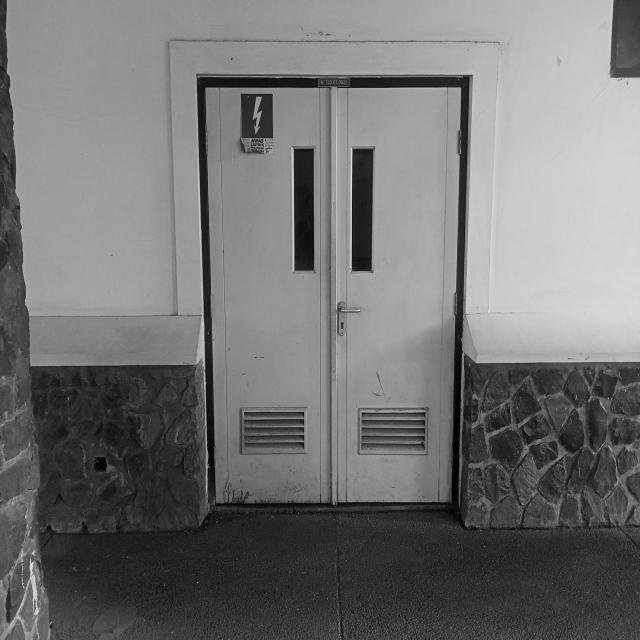door: (195, 75, 469, 508)
